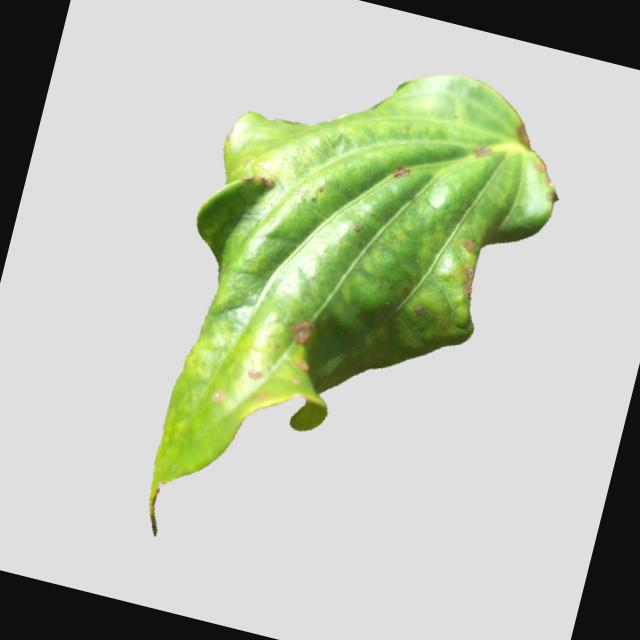yellow-mottle-virus: (105, 28, 580, 615)
